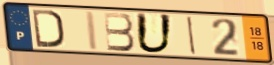2: (210, 17, 241, 57)
B: (102, 11, 137, 53)
D: (30, 8, 66, 50)
I: (84, 9, 101, 52), (186, 15, 198, 56)
U: (134, 11, 174, 55)
